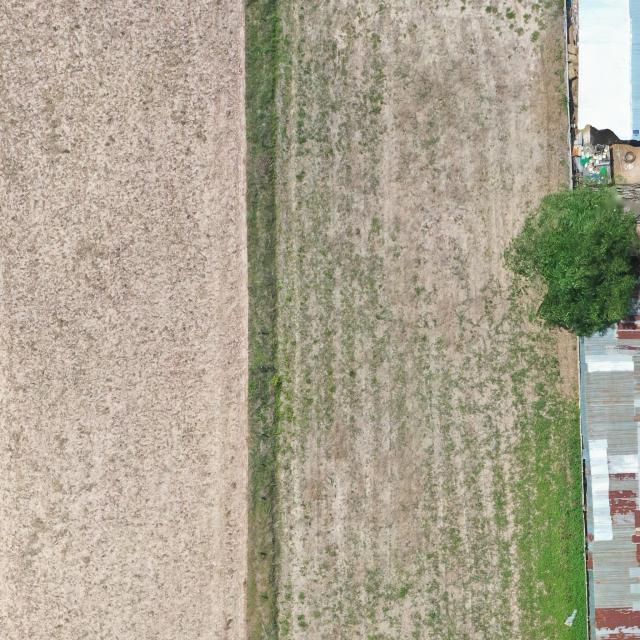tree: (503, 186, 640, 335)
